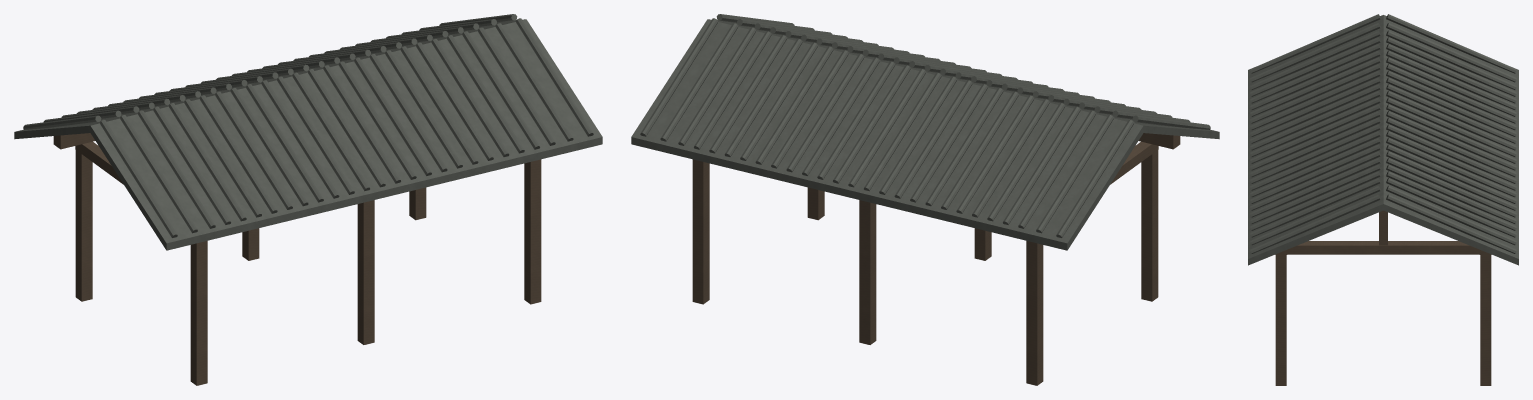
File: workshed-LOD0.glb
The picture shows the model from 3 angles, left to right: view 1: azimuth 30°, elevation 25°; view 2: azimuth 150°, elevation 25°; view 3: azimuth 270°, elevation 25°; orthographic projection. The views are drawn at different scales.
Parts seen in each view (by area): view 1: workshed_tile, workshed_timber; view 2: workshed_tile, workshed_timber; view 3: workshed_tile, workshed_timber.
Boxes of the visible parts, x1=… form: workshed_tile: x1=14, y1=14, x2=602, y2=250; workshed_timber: x1=53, y1=133, x2=541, y2=385; workshed_tile: x1=631, y1=14, x2=1219, y2=250; workshed_timber: x1=692, y1=133, x2=1180, y2=385; workshed_tile: x1=1248, y1=14, x2=1518, y2=265; workshed_timber: x1=1275, y1=210, x2=1491, y2=385.
Size of the model in its own units: 8.1 by 4.13 by 4.9.
2 materials, 2 textured.
